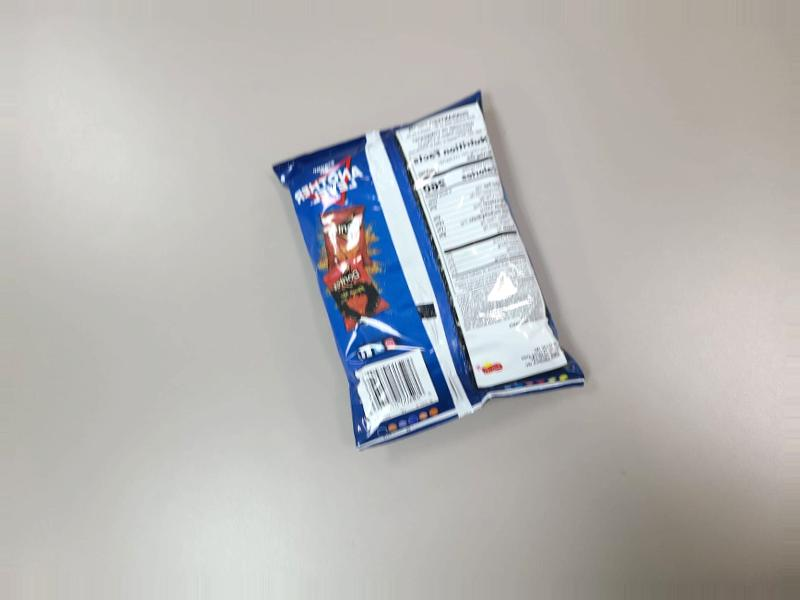doritos: (256, 73, 575, 471)
